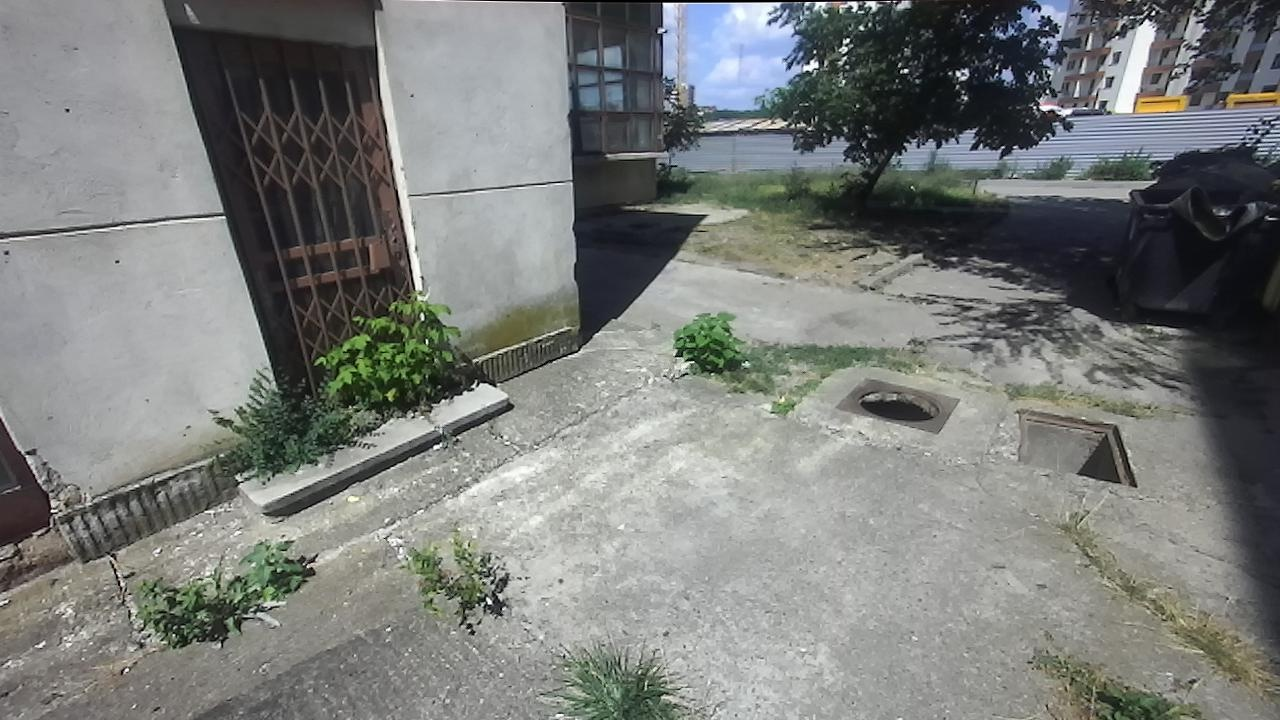drain: (1014, 407, 1142, 493), (852, 385, 945, 425)
